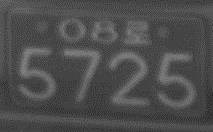0: (59, 16, 86, 43)
2: (108, 50, 149, 106)
5: (155, 51, 197, 110), (16, 46, 56, 102)
7: (62, 47, 101, 104)
8: (91, 18, 119, 43)
로: (123, 18, 150, 45)
